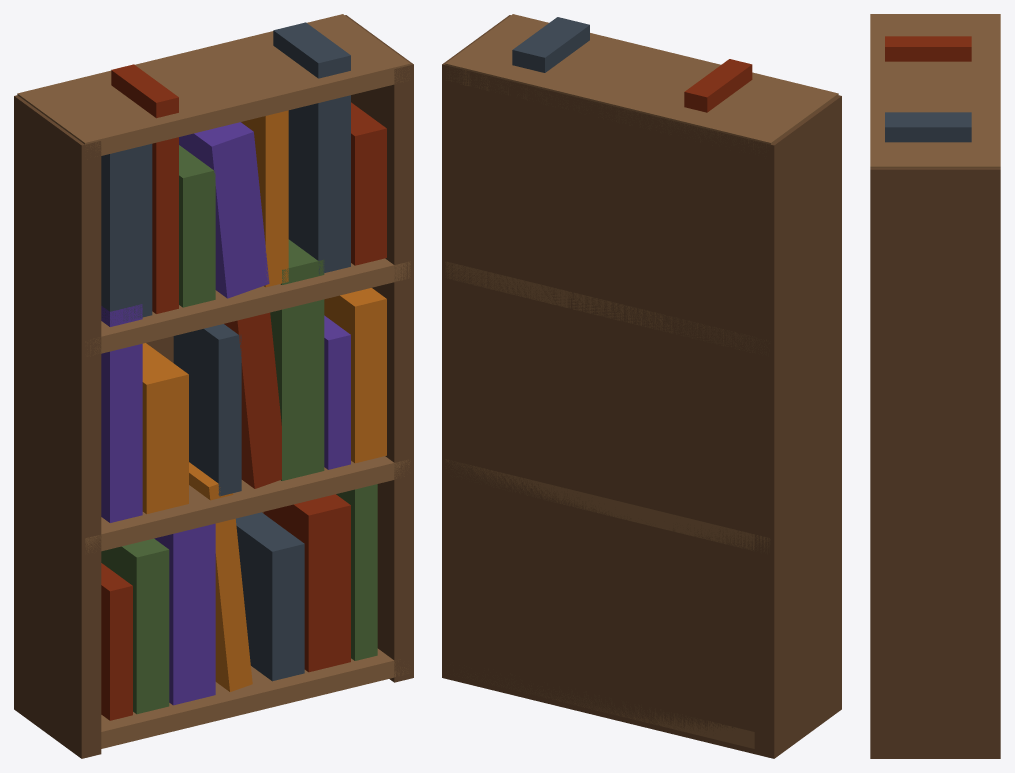
File: bookshelf.glb
The picture shows the model from 3 angles, left to right: view 1: azimuth 30°, elevation 25°; view 2: azimuth 150°, elevation 25°; view 3: azimuth 270°, elevation 25°; orthographic projection. The views are drawn at different scales.
Visible parts, largest first — view 1: bookshelf; view 2: bookshelf; view 3: bookshelf.
Part boxes in pixels (bbox=[...]): bookshelf: bbox=[14, 14, 413, 758]; bookshelf: bbox=[442, 14, 841, 758]; bookshelf: bbox=[870, 14, 1000, 758].
Size of the model in its own units: 1.02 by 1.85 by 0.36.
